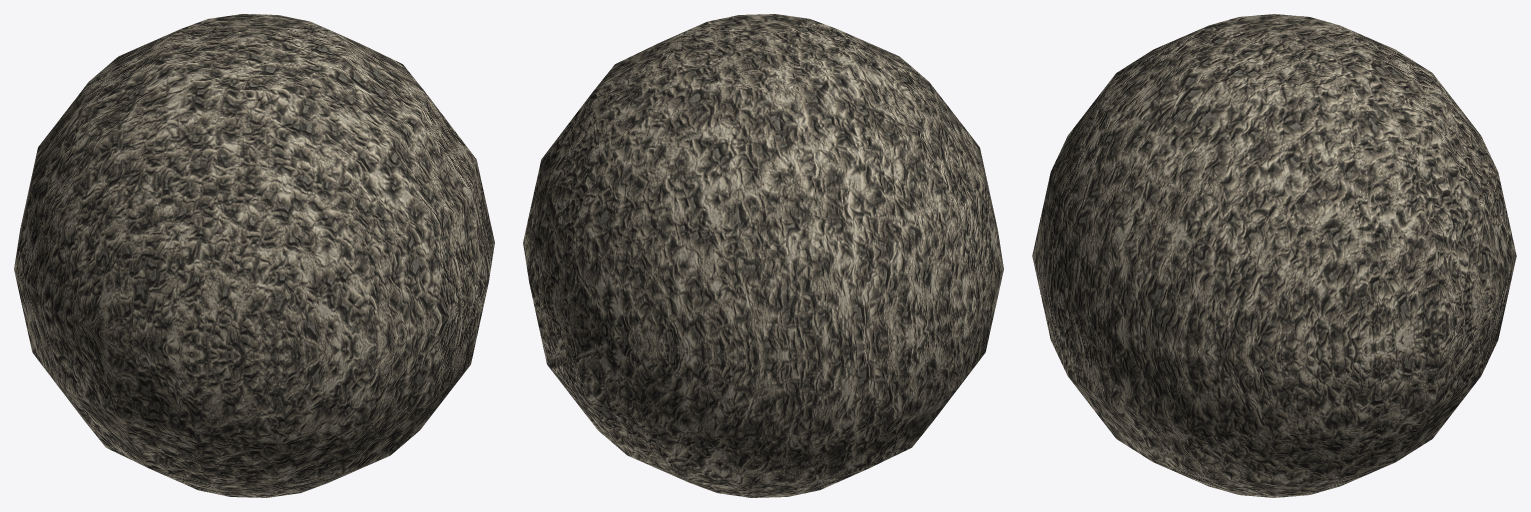
The model's file is star_01.obj.
3 views of the same model, side by side, from view 1: azimuth 30°, elevation 25°; view 2: azimuth 150°, elevation 25°; view 3: azimuth 270°, elevation 25° (orthographic).
Parts seen in each view (by area): view 1: star_01; view 2: star_01; view 3: star_01.
Boxes of the visible parts, bbox=[...] form: star_01: bbox=[14, 14, 494, 497]; star_01: bbox=[523, 14, 1003, 497]; star_01: bbox=[1032, 14, 1516, 497].
Bounding box in the file's own units: 3052 × 3052 × 3052.
